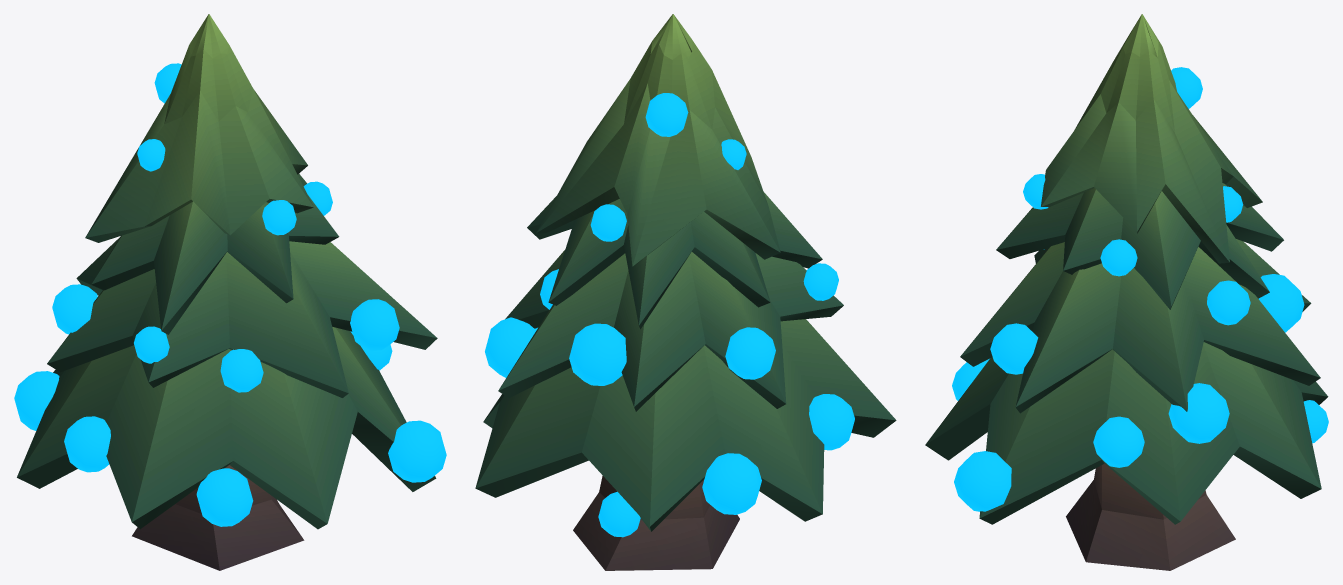
The model's file is elka sin.glb.
The picture shows the model from 3 angles, left to right: view 1: azimuth 30°, elevation 25°; view 2: azimuth 150°, elevation 25°; view 3: azimuth 270°, elevation 25°; orthographic projection. The views are drawn at different scales.
Parts seen in each view (by area): view 1: 1__christmas; view 2: 1__christmas; view 3: 1__christmas.
Part boxes in pixels (left/top/right/bottom): 1__christmas: left=14, top=14, right=446, bottom=570; 1__christmas: left=475, top=14, right=896, bottom=570; 1__christmas: left=925, top=14, right=1328, bottom=570.
Bounding box in the file's own units: 6.75 × 9.91 × 7.03.
Materials: 6 (5 with a texture image).
